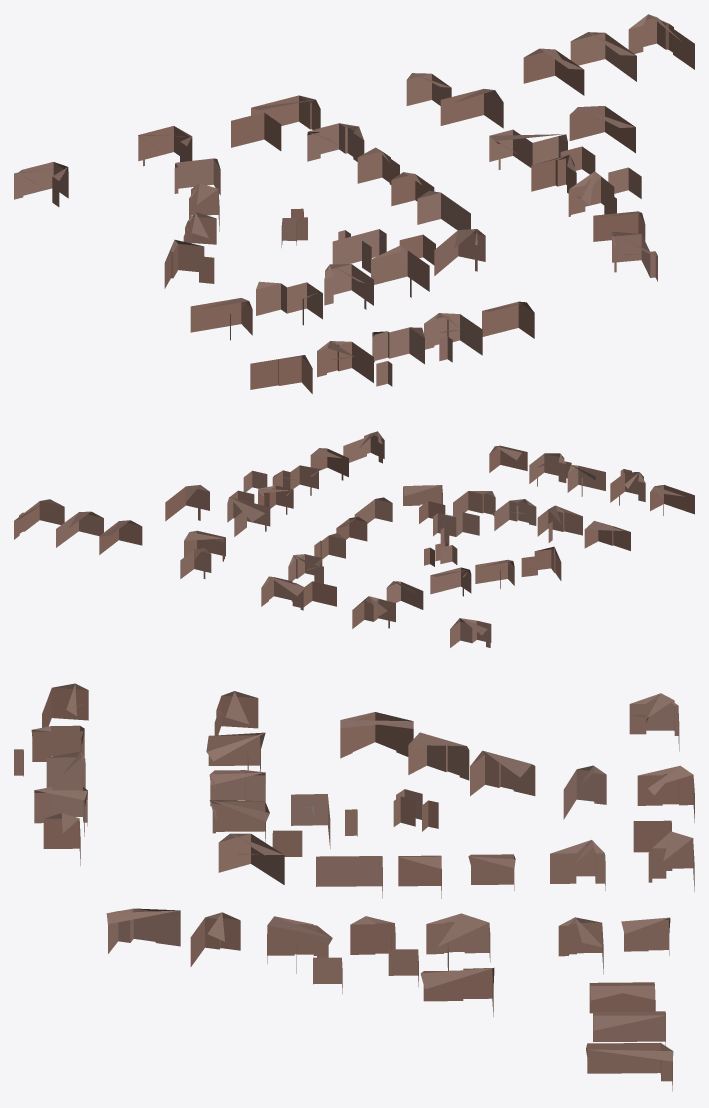
The model's file is c_1648_17831_buildings_residential.glb.
3 views of the same model, one above another, from view 1: azimuth 30°, elevation 25°; view 2: azimuth 150°, elevation 25°; view 3: azimuth 270°, elevation 25° (orthographic). The views are drawn at different scales.
Parts seen in each view (by area): view 1: geometry_0; view 2: geometry_0; view 3: geometry_0.
Part boxes in pixels (box(x1,y1,x2,y2)): geometry_0: box(14, 14, 694, 393); geometry_0: box(14, 431, 694, 647); geometry_0: box(14, 683, 694, 1091).
Size of the model in its own units: 244 by 10.94 by 187.
